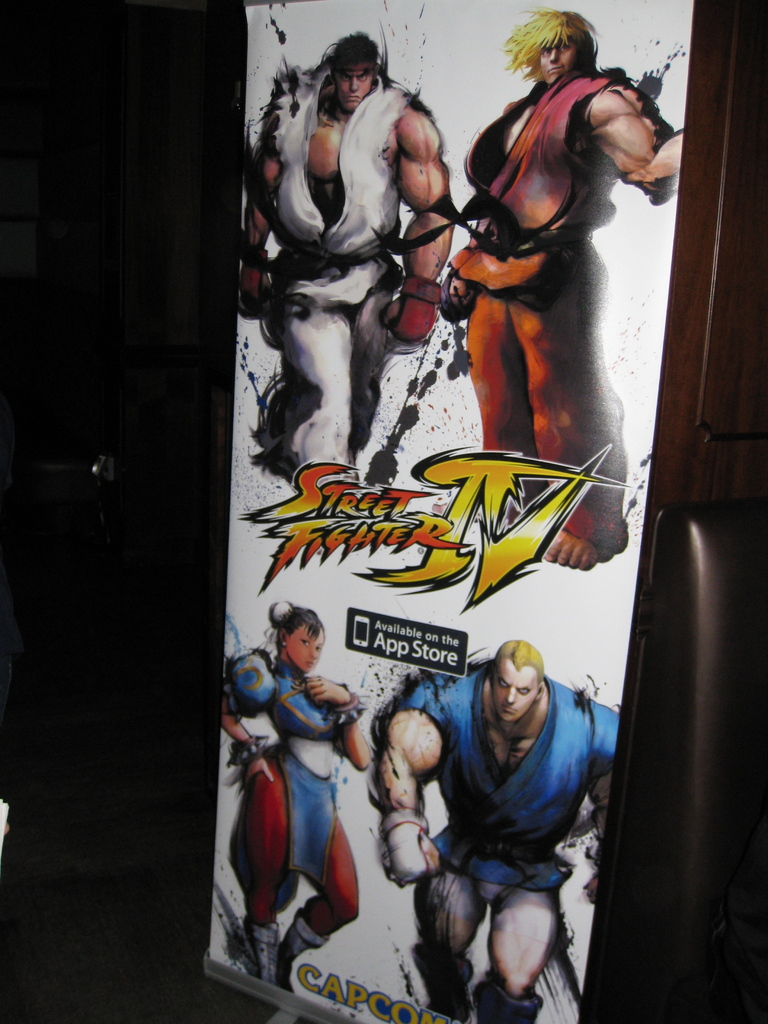Person: (219, 6, 685, 1023)
